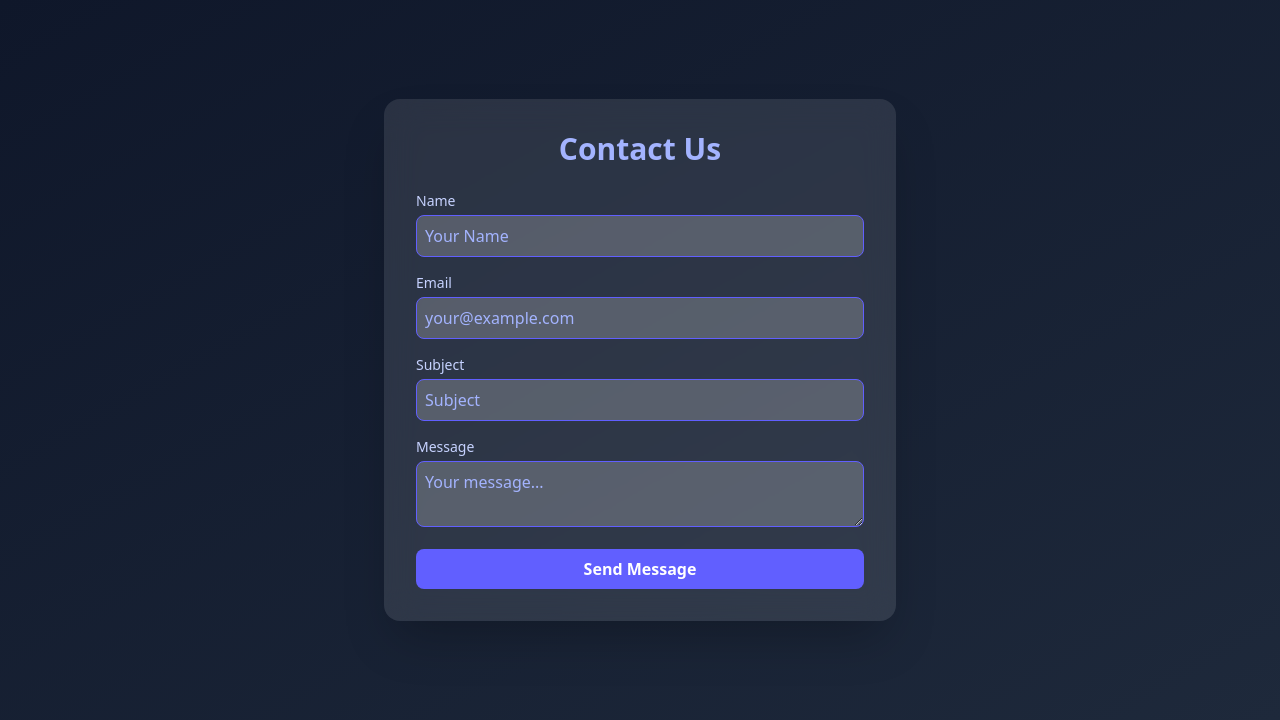
Test case: Contact component › submits the form and shows success message
Type "Jane" into the field with placeholder "Your Name" at [640, 236], box [416,215,864,257]
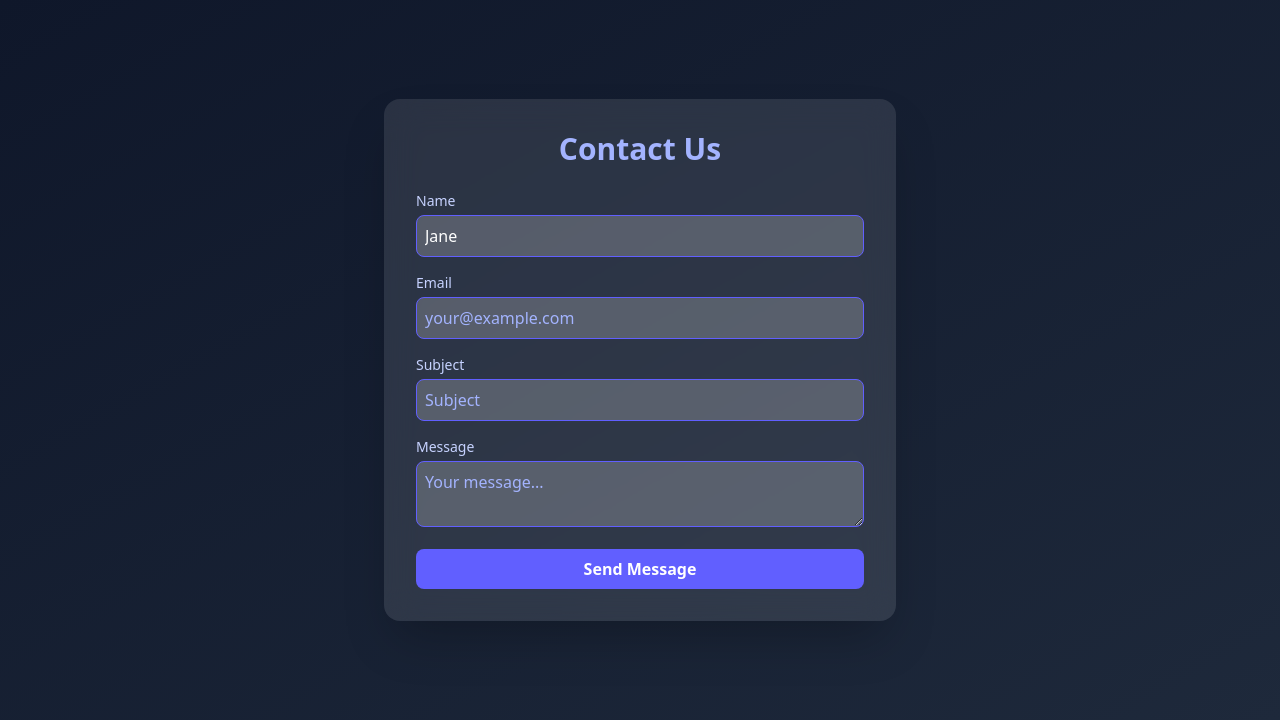
Type "jane@example.com" into the field with placeholder "your@example.com" at [640, 318], box [416,297,864,339]
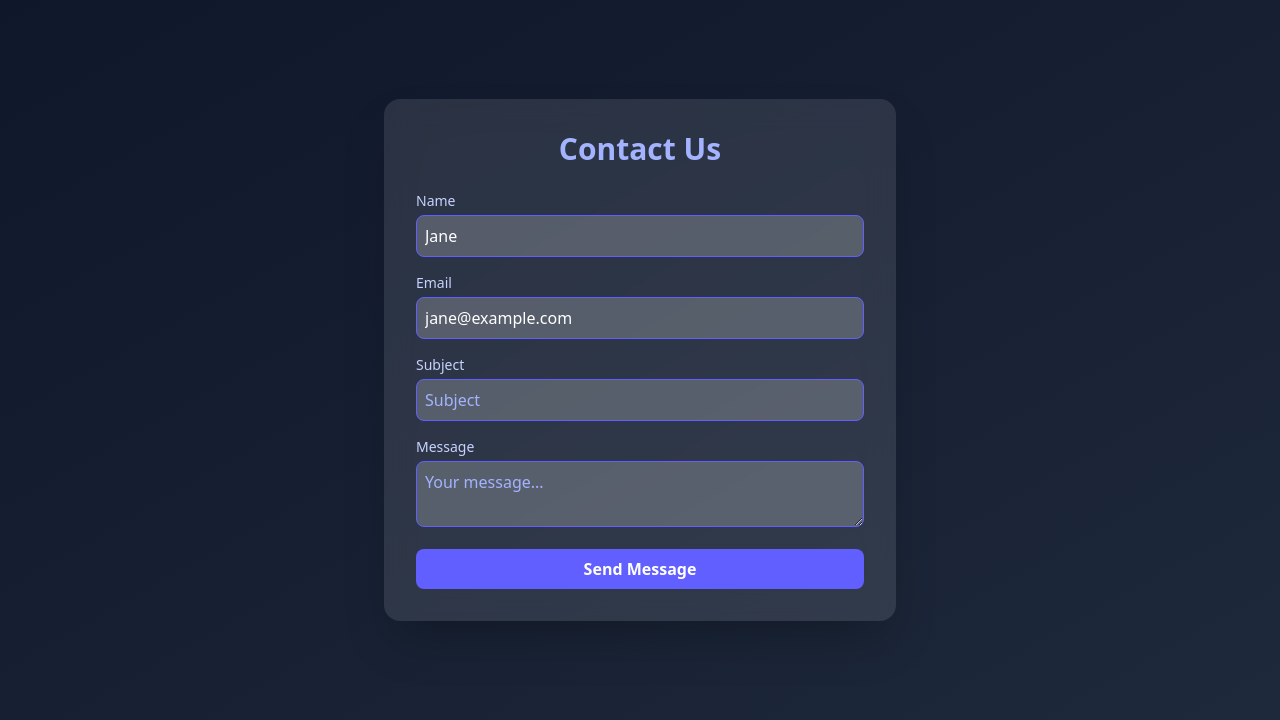
Type "Greetings" into the field with placeholder "Subject" at [640, 400], box [416,379,864,421]
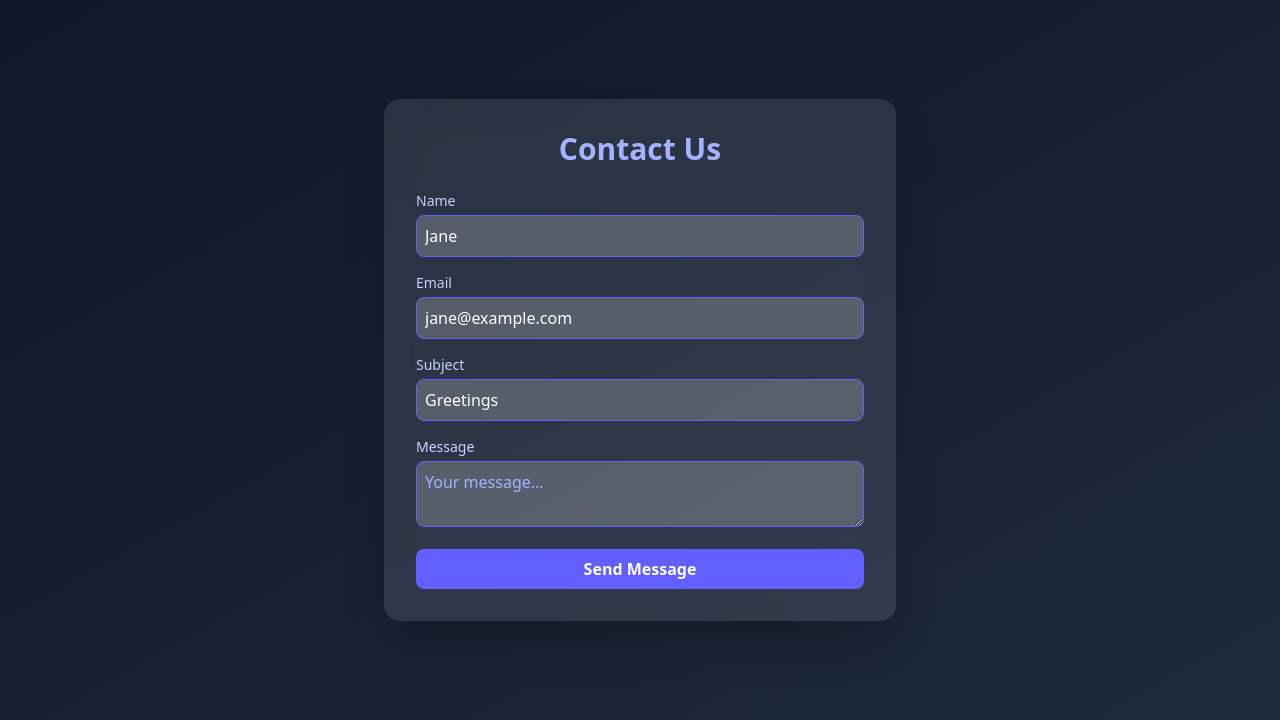
Type "Test message" into the text box with placeholder "Your message..." at [640, 494], box [416,461,864,527]
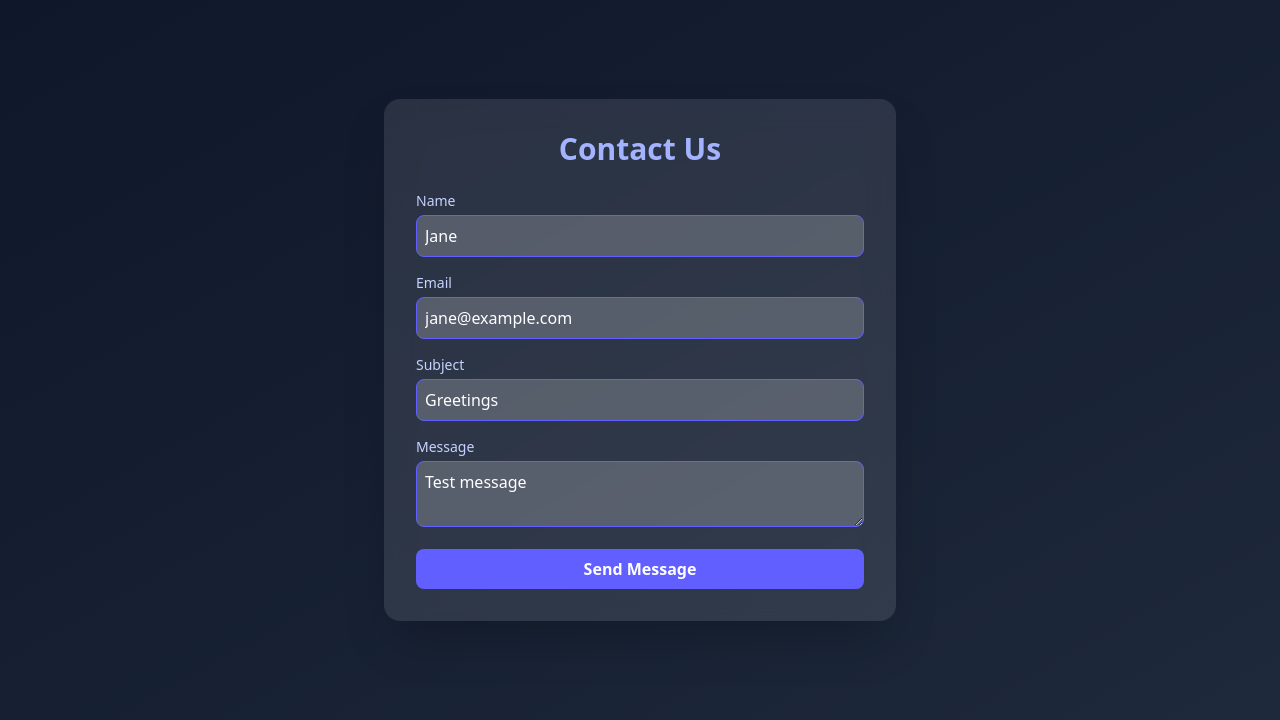
Click the button "Send Message" at [640, 569], box [416,549,864,589]
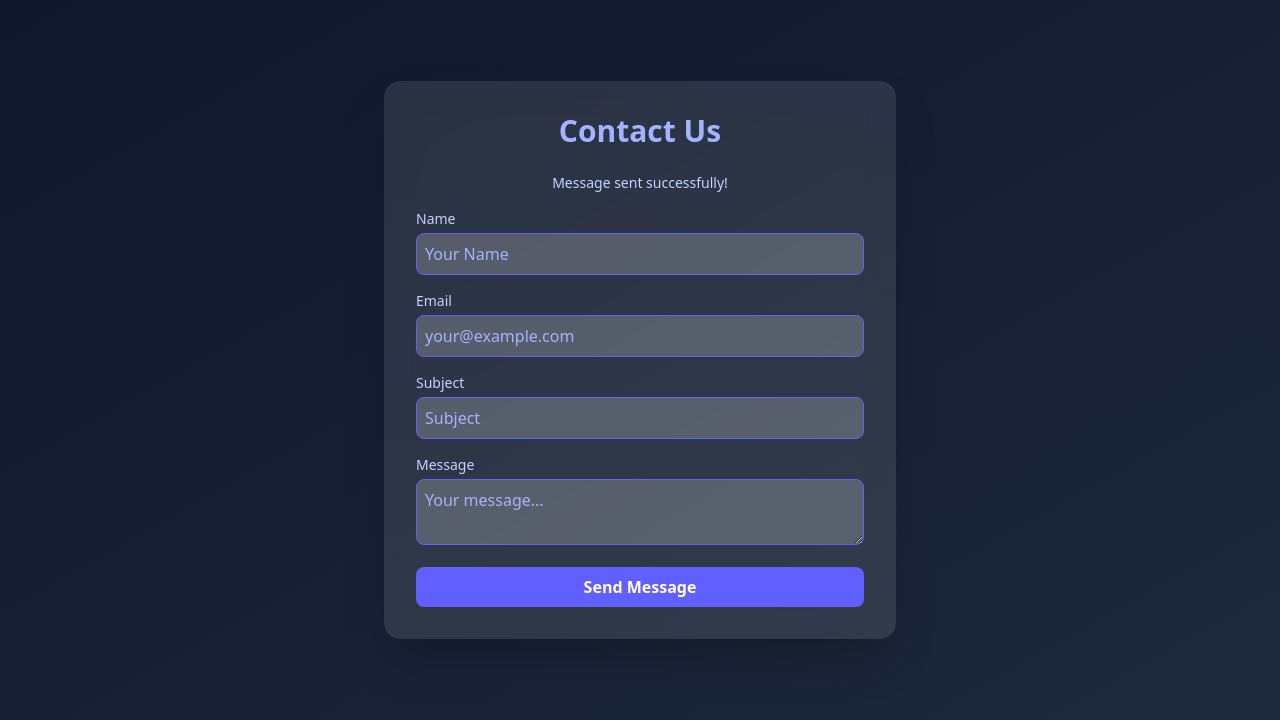
Expected: the text "Message sent successfully!" is shown, [552,173,728,192]
